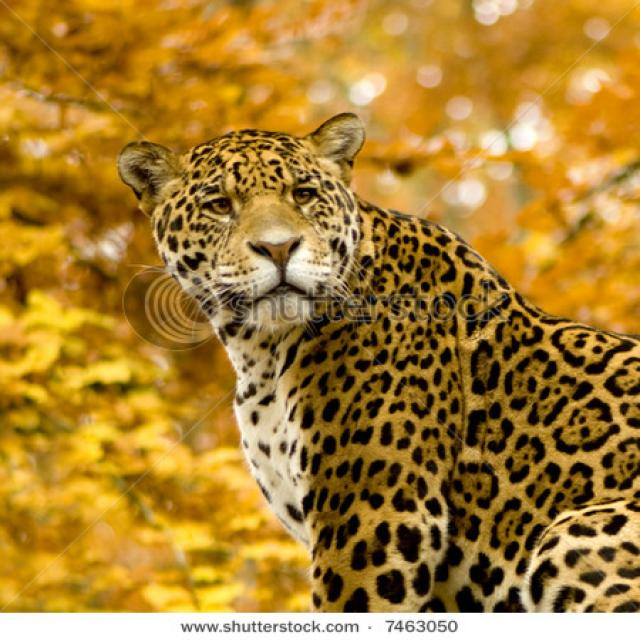Leopard: (108, 105, 636, 611)
